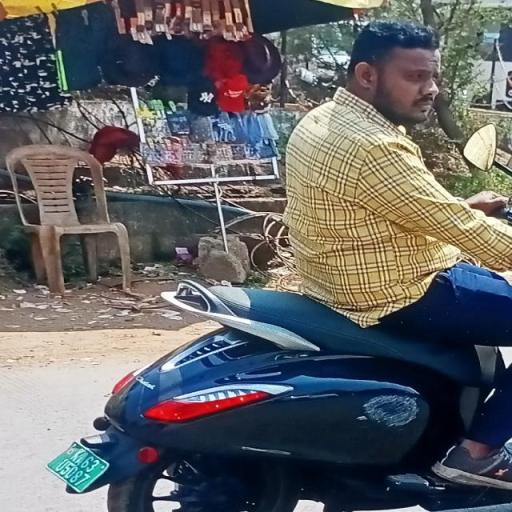bike: (41, 17, 511, 512)
numberplate: (49, 440, 109, 498)
withouthelmet: (355, 26, 435, 112)
